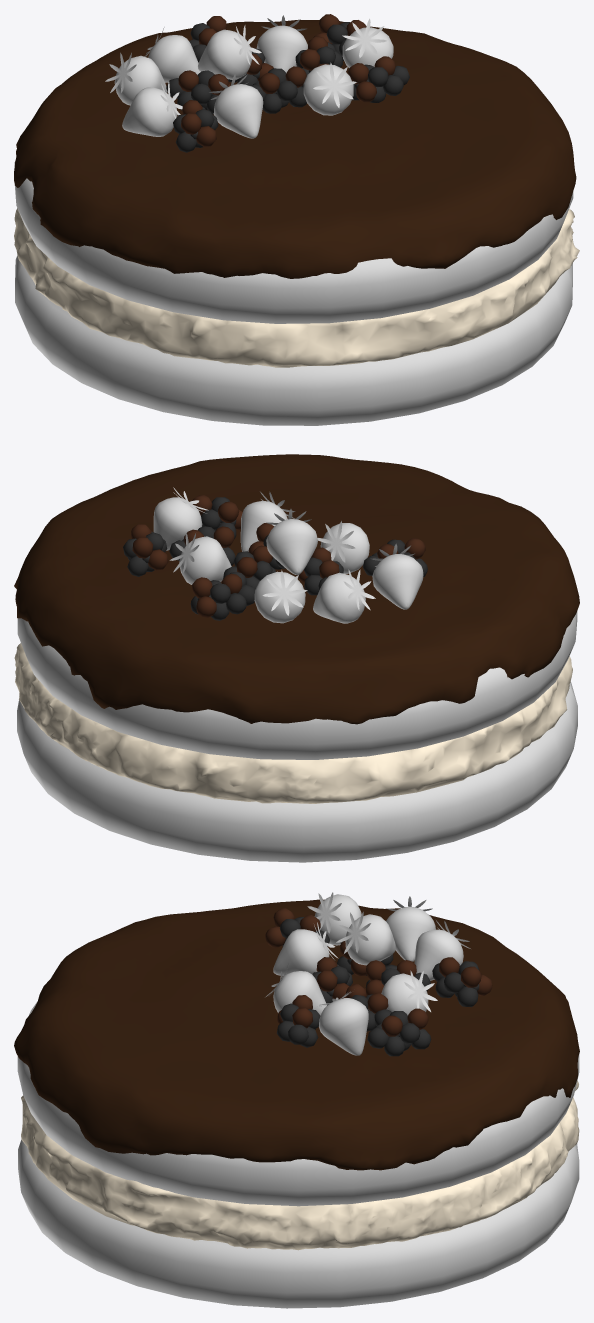
File: cake.glb
3 views of the same model, one above another, from view 1: azimuth 30°, elevation 25°; view 2: azimuth 150°, elevation 25°; view 3: azimuth 270°, elevation 25° (orthographic).
Visible parts, largest first — view 1: Cube.001, Cylinder.009, Cylinder.010, Cylinder.002, Cone.002, Cone.005, Cone.004, Cone.001, Cylinder.001, Cylinder.004, Cone.008, Cone.003 (+8 smaller); view 2: Cube.001, Cylinder.009, Cylinder.010, Cylinder.002, Cone.005, Cylinder.005, Cone.004, Cone.003, Cone.006, Cone.008, Cone.007, Cone.002 (+7 smaller); view 3: Cube.001, Cylinder.009, Cylinder.010, Cylinder.002, Cone.007, Cylinder.006, Cone.004, Cylinder.005, Cone.002, Cone.003, Cone.006, Cylinder.001 (+8 smaller).
Boxes of the visible parts, <box> form: Cube.001: <box>14,19,576,278</box>; Cylinder.009: <box>15,255,572,425</box>; Cylinder.010: <box>14,208,579,367</box>; Cylinder.002: <box>14,160,573,323</box>; Cone.002: <box>209,74,263,138</box>; Cone.005: <box>122,82,182,136</box>; Cone.004: <box>198,25,261,79</box>; Cone.001: <box>303,62,356,115</box>; Cylinder.001: <box>348,56,409,102</box>; Cylinder.004: <box>251,66,306,113</box>; Cone.008: <box>256,15,307,73</box>; Cone.003: <box>105,52,167,105</box>; Cube.001: <box>14,454,579,724</box>; Cylinder.009: <box>17,682,577,862</box>; Cylinder.010: <box>14,643,572,803</box>; Cylinder.002: <box>17,611,577,759</box>; Cone.005: <box>370,543,423,609</box>; Cylinder.005: <box>190,573,254,620</box>; Cone.004: <box>266,509,317,574</box>; Cone.003: <box>313,569,375,623</box>; Cone.006: <box>254,570,307,623</box>; Cone.008: <box>169,532,231,584</box>; Cone.007: <box>153,487,208,550</box>; Cone.002: <box>317,521,369,573</box>; Cube.001: <box>14,899,579,1170</box>; Cylinder.009: <box>18,1139,579,1308</box>; Cylinder.010: <box>21,1080,579,1250</box>; Cylinder.002: <box>17,1001,579,1206</box>; Cone.007: <box>317,991,368,1055</box>; Cylinder.006: <box>367,1008,431,1056</box>; Cone.004: <box>336,911,395,965</box>; Cylinder.005: <box>432,957,492,1007</box>; Cone.002: <box>273,922,338,975</box>; Cone.003: <box>386,896,435,961</box>; Cone.006: <box>414,920,470,980</box>; Cylinder.001: <box>276,995,320,1047</box>.
Size of the model in its own units: 2.07 by 1.09 by 2.07.
